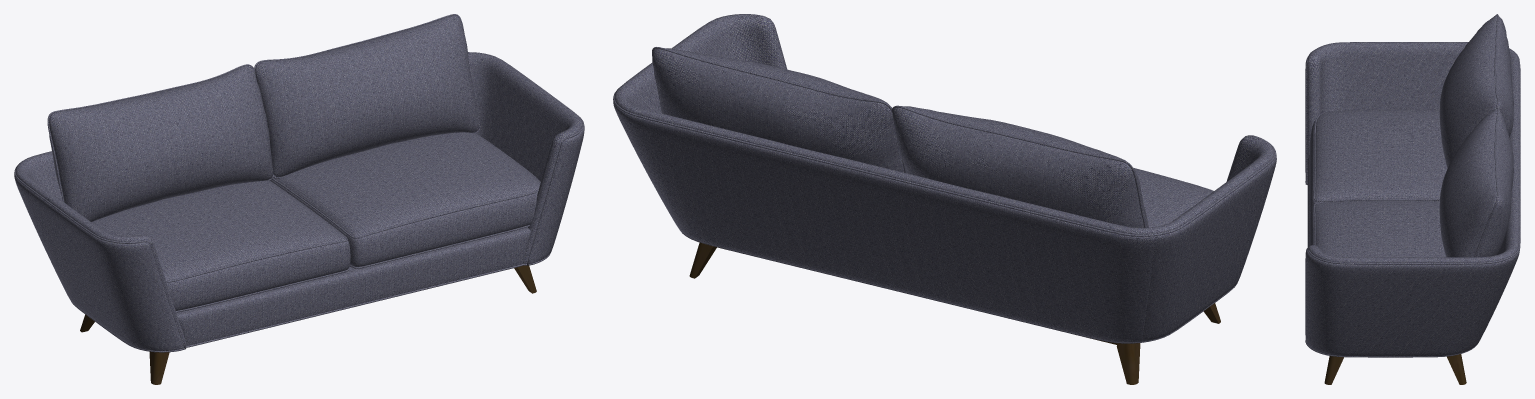
Rendered from SOFA-new.glb.
3 renders of one model, left to right at view 1: azimuth 30°, elevation 25°; view 2: azimuth 150°, elevation 25°; view 3: azimuth 270°, elevation 25°, orthographic. The views are drawn at different scales.
Visible parts, largest first — view 1: Body, Leg; view 2: Body, Leg; view 3: Body, Leg.
Boxes of the visible parts, x1,y1,x2,y2 form: Body: (14, 14, 584, 352); Leg: (80, 265, 536, 384); Body: (613, 14, 1276, 343); Leg: (689, 242, 1220, 384); Body: (1305, 14, 1520, 357); Leg: (1324, 354, 1466, 384).
Bounding box in the file's own units: 2.29 × 0.9336 × 0.9424.
3 materials, 2 textured.
